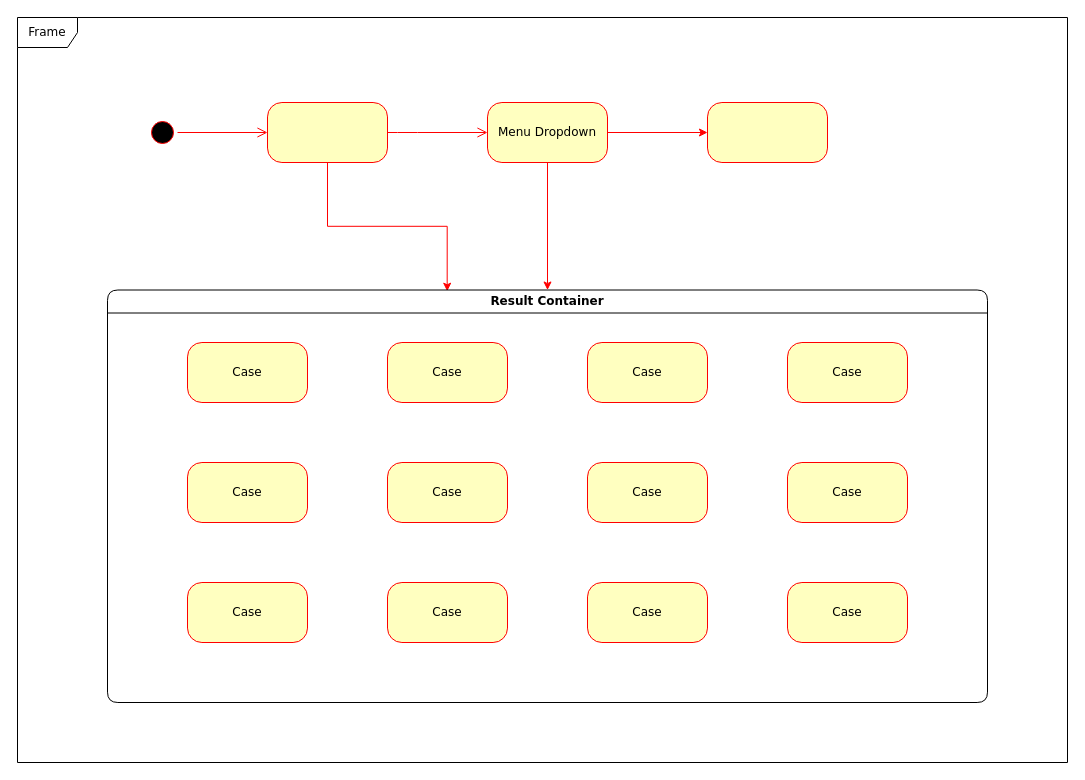
This 1085x780 diagram has some shape labels left out. Each missing label, with the centre of its shape:
"Definition Page" goes at pixel 767 132.
"Test Page" goes at pixel 327 132.
